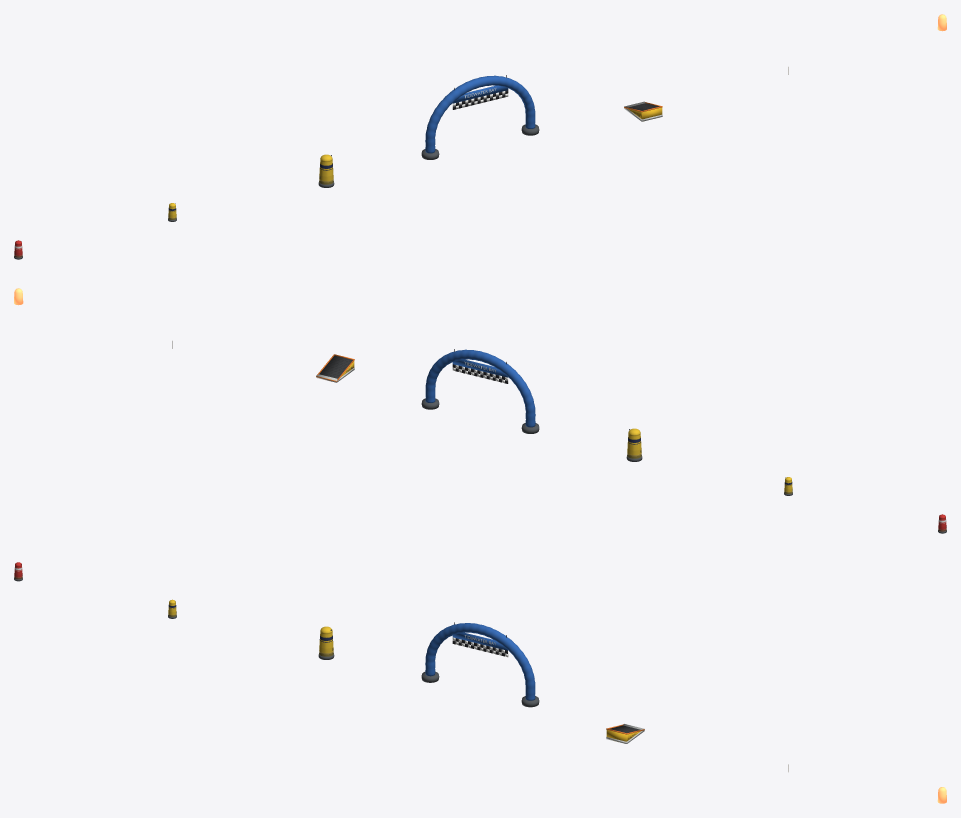
File: jetski_course.glb
3 renders of one model, top to bottom at view 1: azimuth 30°, elevation 25°; view 2: azimuth 150°, elevation 25°; view 3: azimuth 330°, elevation 25°, orthographic.
Parts seen in each view (by area): view 1: Arch, Ramp; view 2: Arch, Ramp; view 3: Arch, Ramp.
Boxes of the visible parts, x1,y1,x2,y2 form: Arch: [421, 75, 539, 159]; Ramp: [624, 101, 662, 121]; Arch: [421, 349, 539, 433]; Ramp: [316, 354, 354, 382]; Arch: [421, 622, 539, 707]; Ramp: [606, 724, 644, 743].
Size of the model in its own units: 121 by 8.96 by 5.05.
